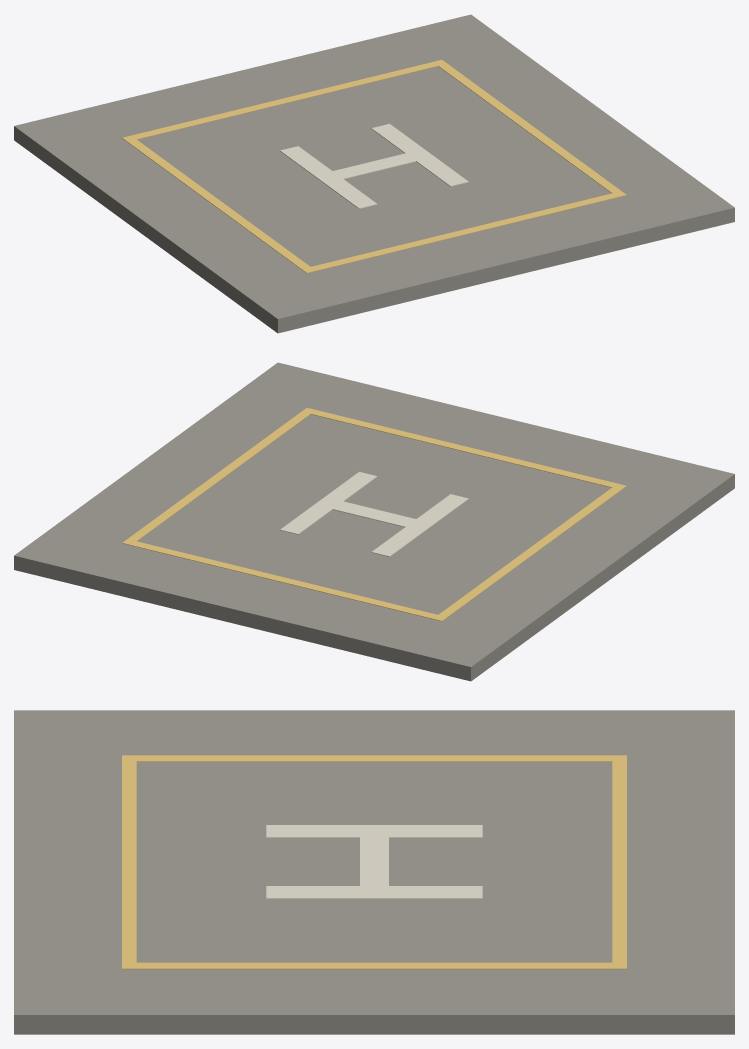
File: heliponto_a.glb
3 renders of one model, top to bottom at view 1: azimuth 30°, elevation 25°; view 2: azimuth 150°, elevation 25°; view 3: azimuth 270°, elevation 25°, orthographic. The views are drawn at different scales.
Parts seen in each view (by area): view 1: heliponto_a; view 2: heliponto_a; view 3: heliponto_a.
Boxes of the visible parts, bbox=[...] form: heliponto_a: bbox=[14, 14, 734, 333]; heliponto_a: bbox=[14, 362, 734, 681]; heliponto_a: bbox=[14, 710, 734, 1034].
Size of the model in its own units: 20 by 0.63 by 20.
